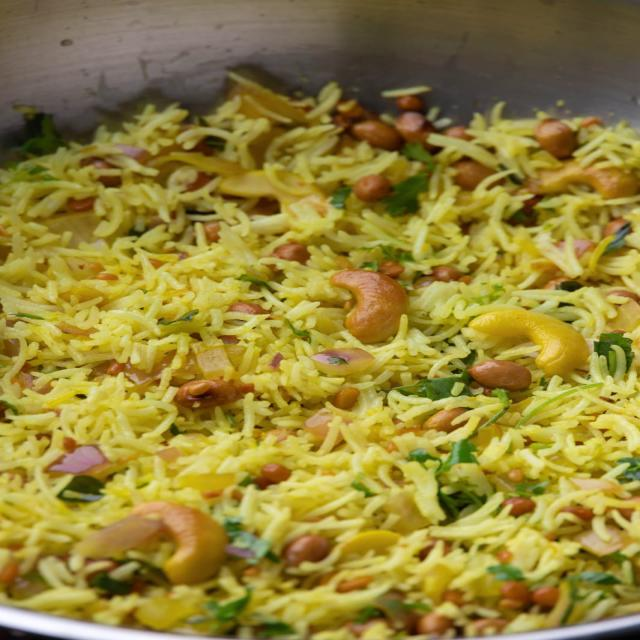lemon rice: (0, 50, 640, 640)
